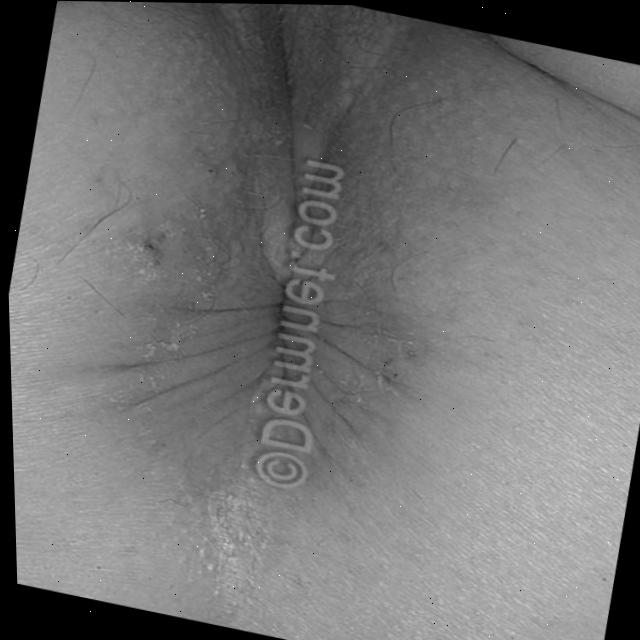Eczema: (340, 309, 444, 440), (106, 213, 194, 336)
